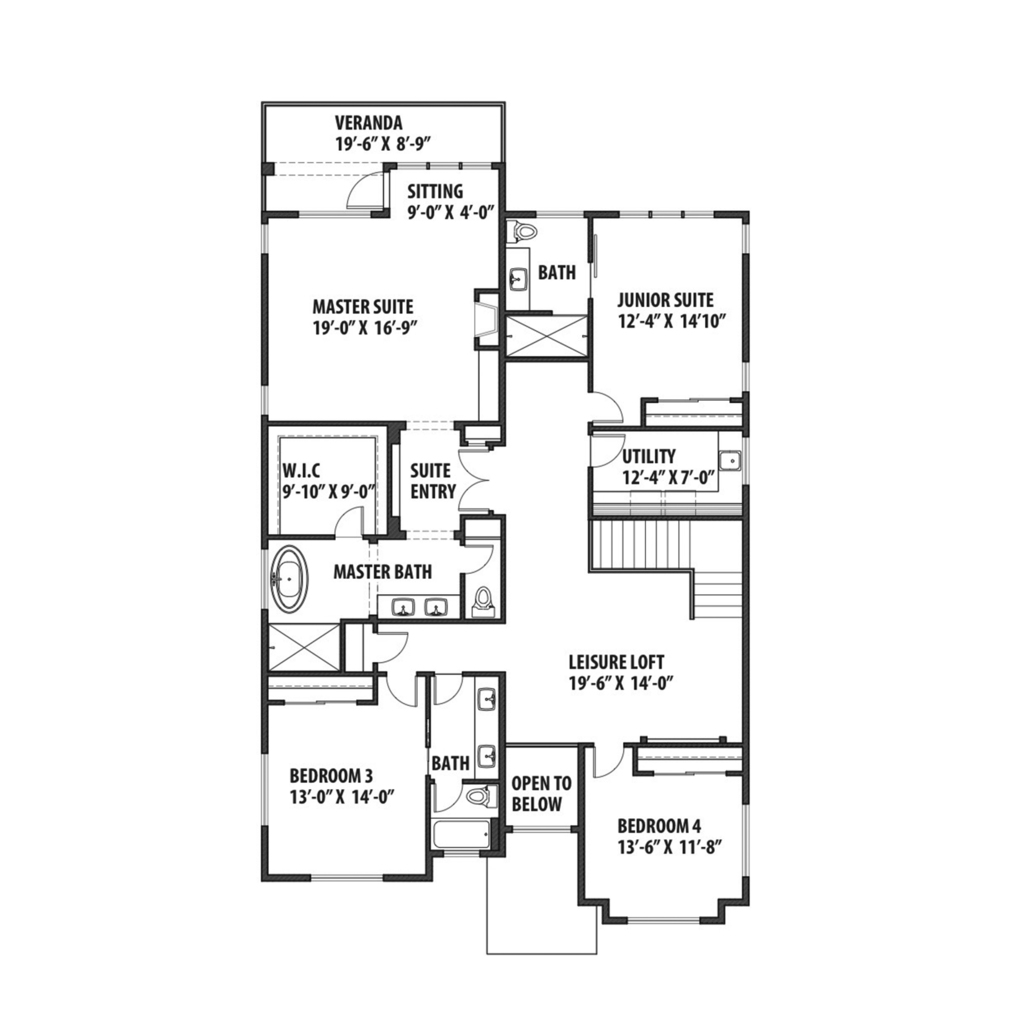door: (450, 446, 495, 515), (339, 168, 387, 213), (588, 385, 628, 428), (384, 670, 425, 711), (588, 431, 628, 471), (588, 739, 626, 781), (459, 538, 495, 577), (434, 670, 469, 709), (328, 505, 366, 540), (378, 628, 410, 664), (432, 777, 463, 813), (466, 784, 499, 809)
large_sink: (502, 219, 537, 249), (468, 587, 497, 615)
small_sink: (469, 674, 500, 776), (375, 588, 455, 620), (501, 254, 532, 309)
stairs: (588, 520, 745, 626)
tub: (428, 820, 494, 850)
windows: (268, 541, 311, 617), (612, 206, 719, 224), (257, 749, 277, 838), (617, 911, 706, 928), (737, 794, 754, 883), (303, 873, 388, 884)
